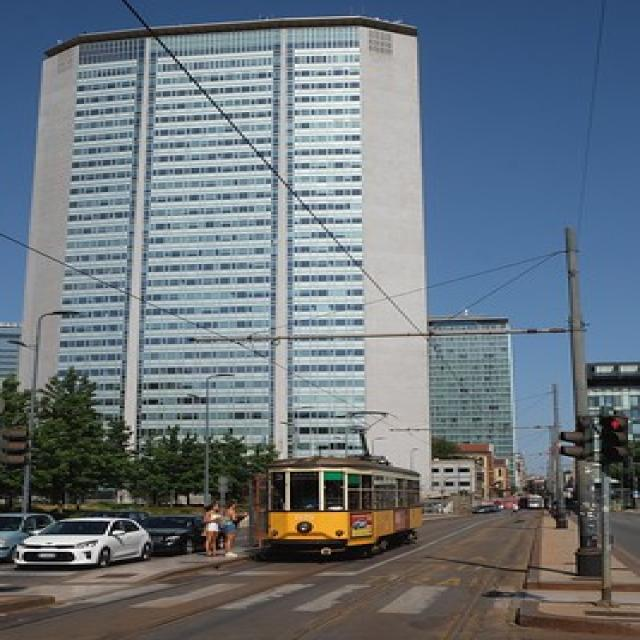building: (4, 7, 435, 516), (420, 313, 522, 503)
